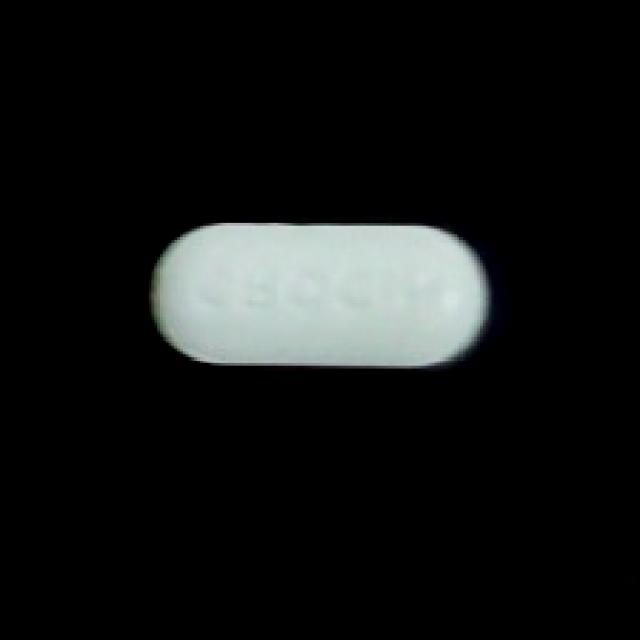no-defect: (146, 223, 497, 380)
